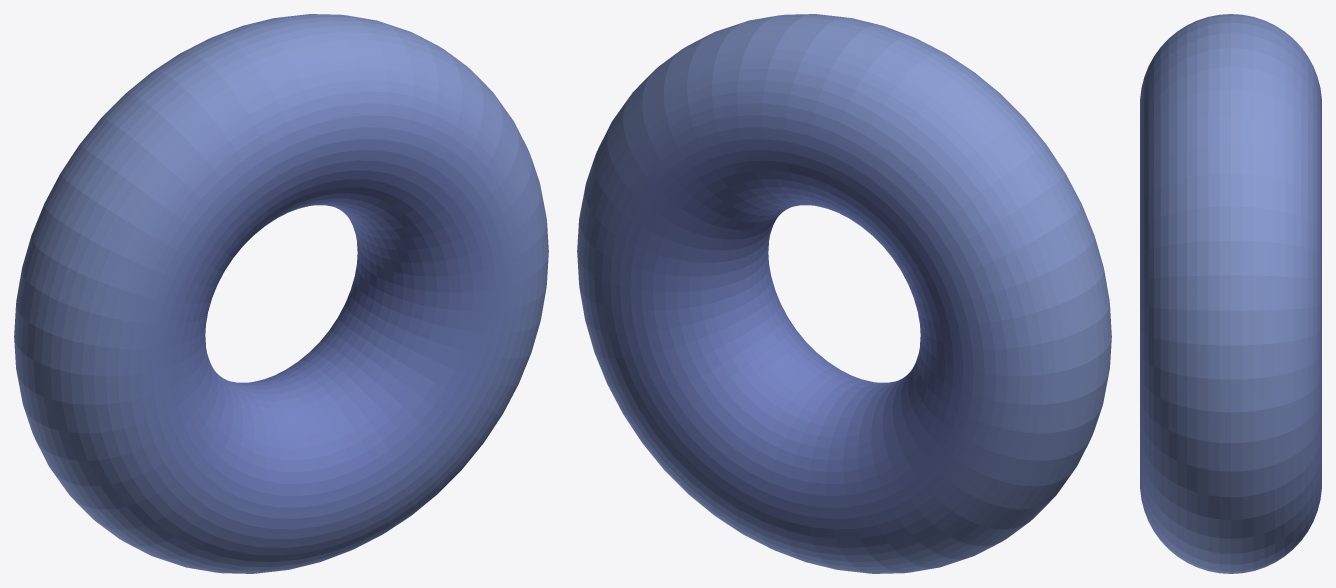
3 views of the same model, side by side, from view 1: azimuth 30°, elevation 25°; view 2: azimuth 150°, elevation 25°; view 3: azimuth 270°, elevation 25° (orthographic). The views are drawn at different scales.
Visible parts, largest first — view 1: world; view 2: world; view 3: world.
Part boxes in pixels (x1=…): world: x1=14, y1=14, x2=548, y2=573; world: x1=577, y1=14, x2=1111, y2=573; world: x1=1140, y1=14, x2=1321, y2=573.
Size of the model in its own units: 16.8 by 16.77 by 5.46.
